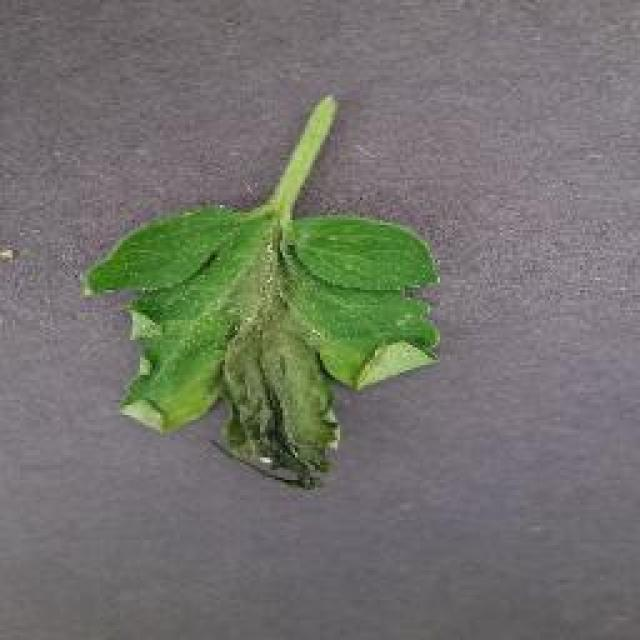Tomato late blight leaf: (84, 205, 441, 490)
